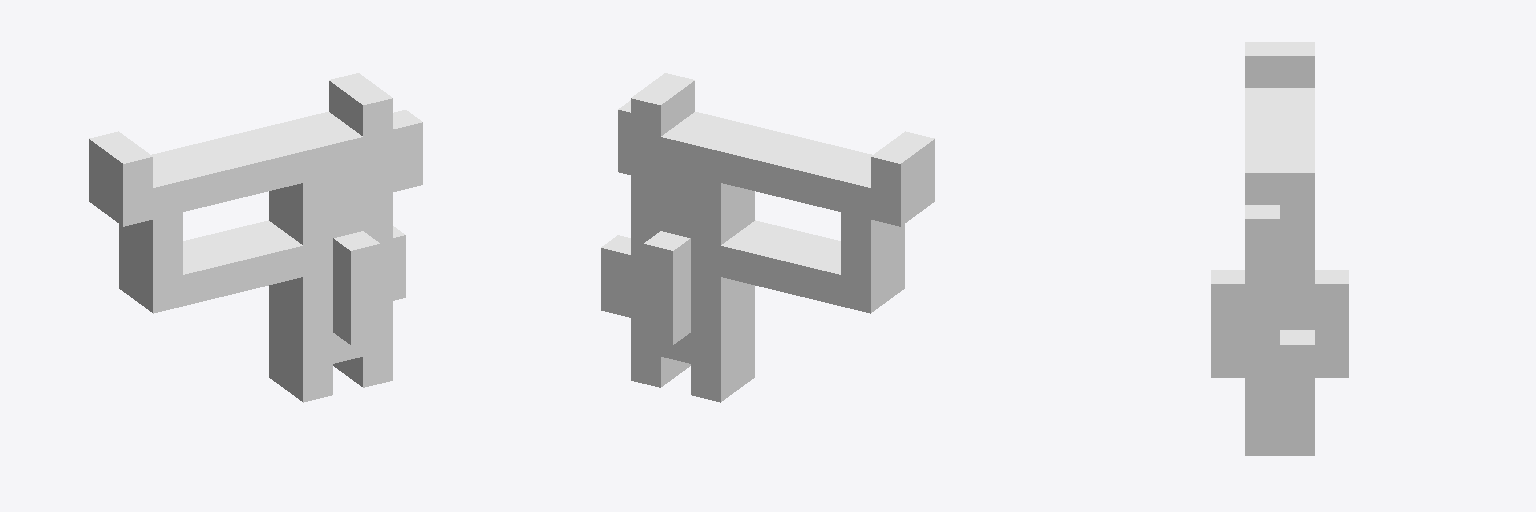
Rendered from Mecha01_left_gun.obj.
3 renders of one model, left to right at view 1: azimuth 30°, elevation 25°; view 2: azimuth 150°, elevation 25°; view 3: azimuth 270°, elevation 25°, orthographic.
Visible parts, largest first — view 1: object 1; view 2: object 1; view 3: object 1.
Boxes of the visible parts, box(x1,y1,x2,y2) form: object 1: box(89, 73, 422, 402); object 1: box(601, 73, 934, 402); object 1: box(1211, 42, 1348, 455).
Size of the model in its own units: 1 by 0.9 by 0.4.